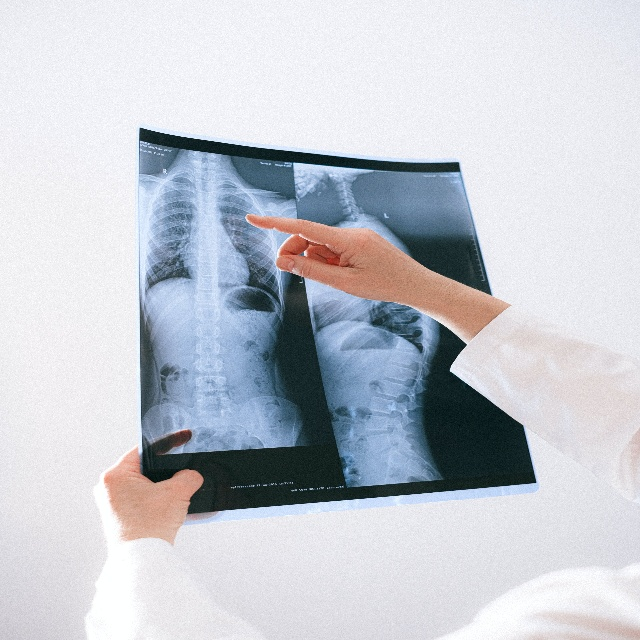Sin_guantes: (244, 210, 406, 303), (92, 446, 205, 542)
